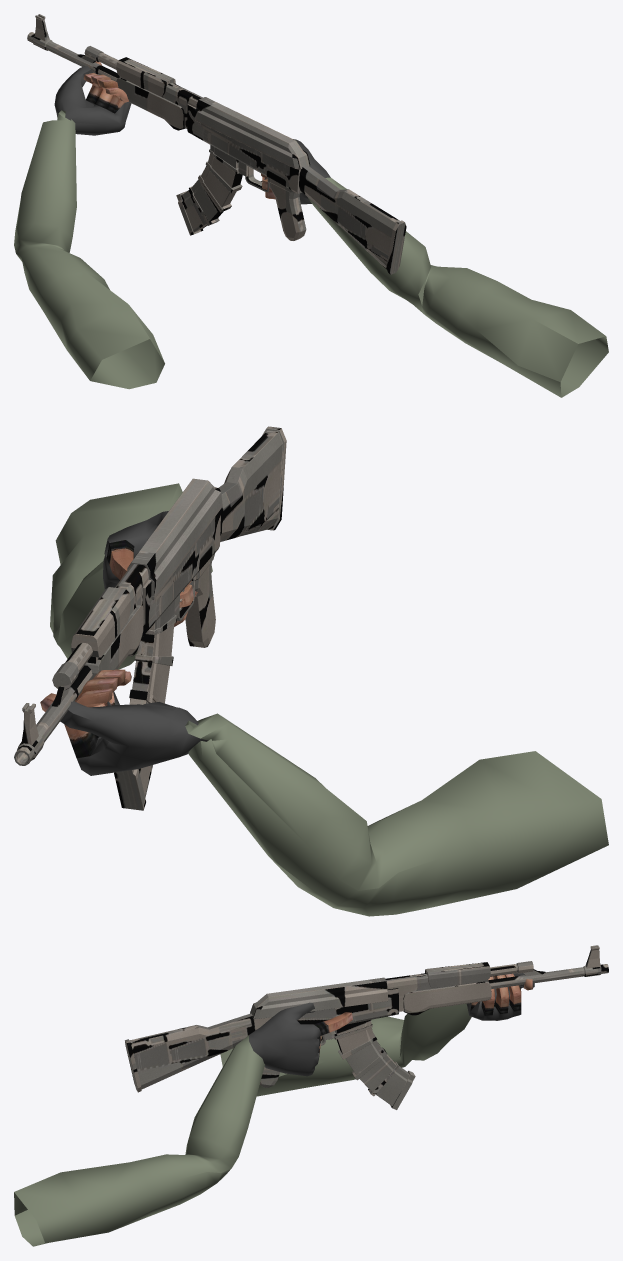
The model's file is gun_ak.glb.
3 renders of one model, top to bottom at view 1: azimuth 30°, elevation 25°; view 2: azimuth 150°, elevation 25°; view 3: azimuth 270°, elevation 25°, orthographic. The views are drawn at different scales.
Parts seen in each view (by area): view 1: body_sleeve, body_QUATP, body_QUAT, mag_QUATP, body_glove, body_ARMS; view 2: body_sleeve, body_QUATP, body_QUAT, body_glove, mag_QUATP, body_ARMS; view 3: body_sleeve, body_QUATP, body_QUAT, body_glove, mag_QUATP, body_ARMS.
Part boxes in pixels (bbox=[...]): body_sleeve: bbox=[14, 110, 608, 397]; body_QUATP: bbox=[27, 14, 406, 274]; body_QUAT: bbox=[27, 14, 309, 193]; mag_QUATP: bbox=[176, 145, 242, 235]; body_glove: bbox=[54, 66, 330, 204]; body_ARMS: bbox=[83, 61, 275, 199]; body_sleeve: bbox=[50, 483, 608, 916]; body_QUATP: bbox=[14, 426, 286, 765]; body_QUAT: bbox=[14, 478, 222, 765]; body_glove: bbox=[60, 511, 207, 775]; mag_QUATP: bbox=[114, 600, 176, 810]; body_ARMS: bbox=[40, 540, 197, 758]; body_sleeve: bbox=[14, 1003, 471, 1246]; body_QUATP: bbox=[125, 945, 608, 1092]; body_QUAT: bbox=[250, 945, 608, 1045]; body_glove: bbox=[249, 972, 534, 1076]; mag_QUATP: bbox=[334, 1020, 415, 1109]; body_ARMS: bbox=[314, 973, 532, 1059].
Bounding box in the file's own units: 79.59 × 37.98 × 106.
Materials: 5 (3 with a texture image).
